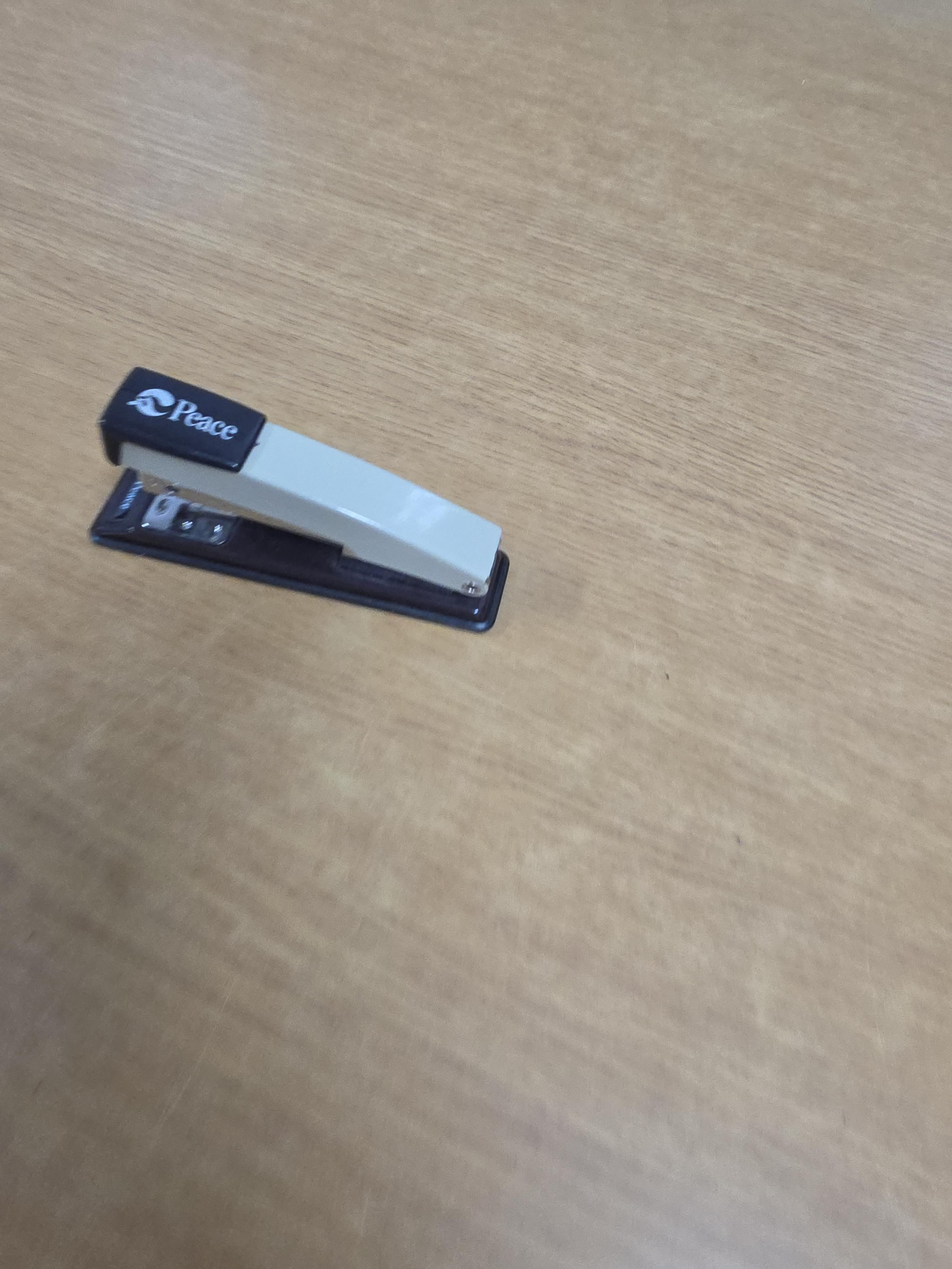stapler: (89, 366, 510, 635)
